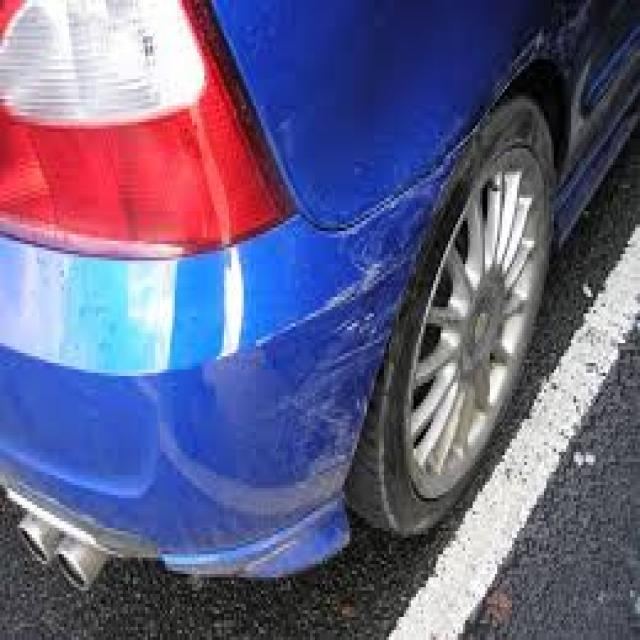minor: (262, 113, 392, 454)
